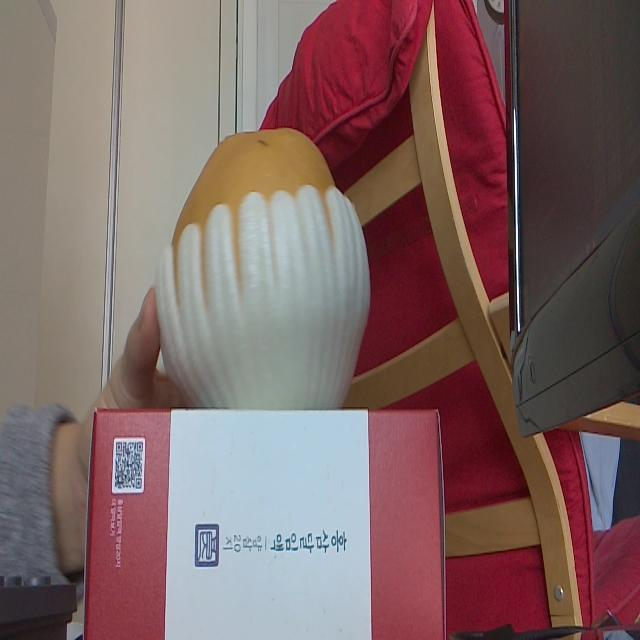pear: (162, 129, 372, 409)
